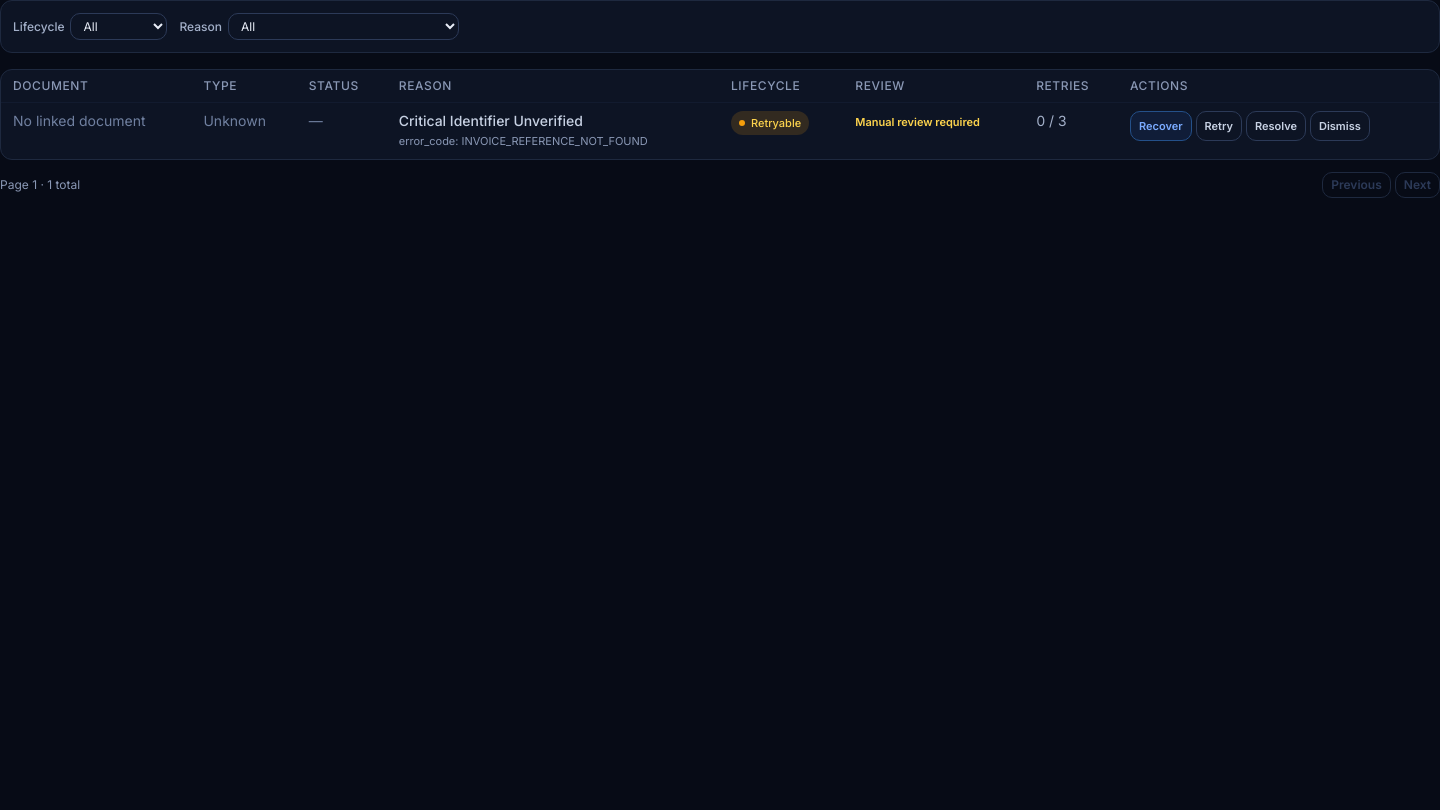
Critical-reference recovery › disables recovery mutation once the exception is resolved
Click the button "Recover": (1161, 126) left=1130, top=111, right=1192, bottom=141
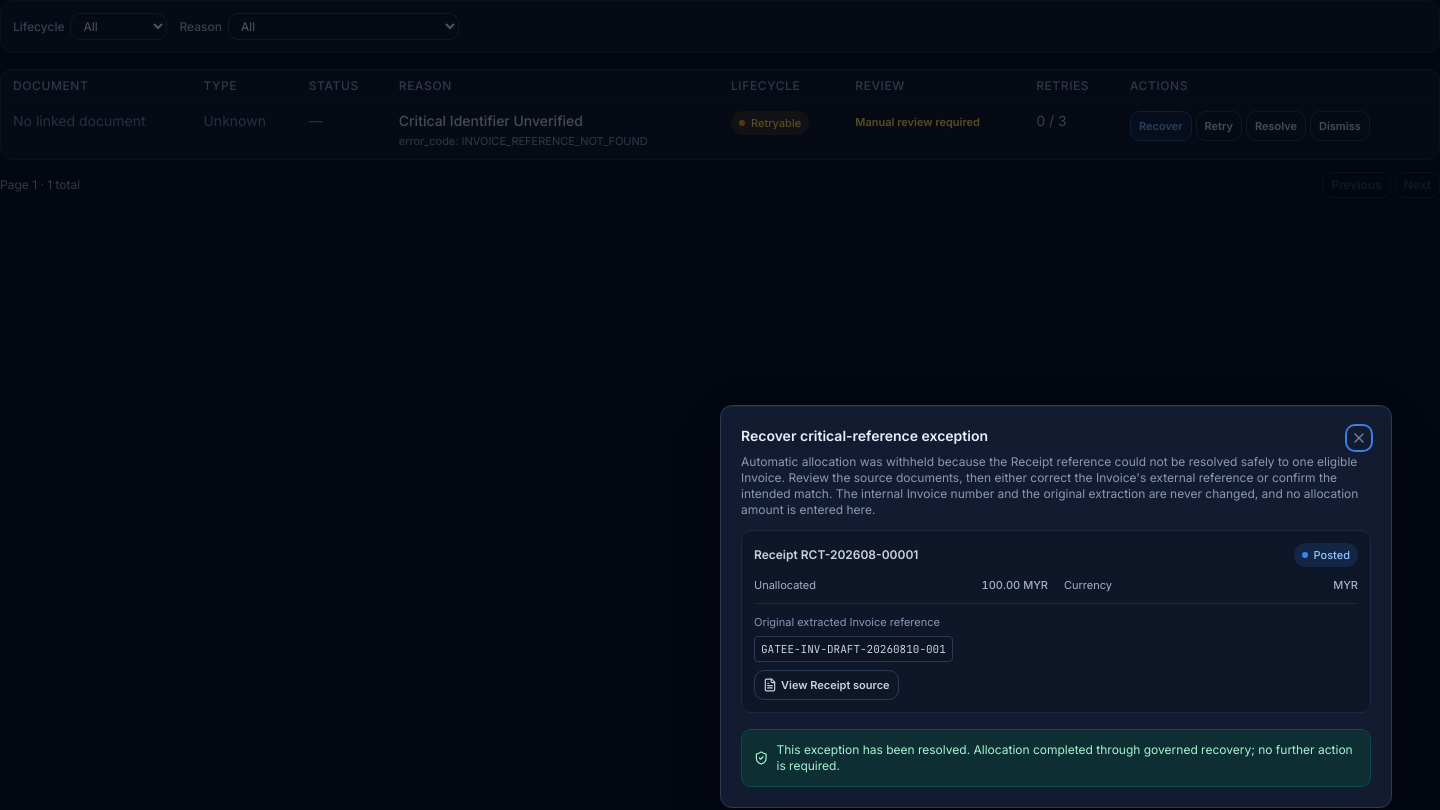
Expected: the list item "GATEE-INV-DRAFT-20260810-001" is shown, left=754, top=636, right=953, bottom=662
Expected: the text "has been resolved" is shown, left=776, top=742, right=1353, bottom=773
